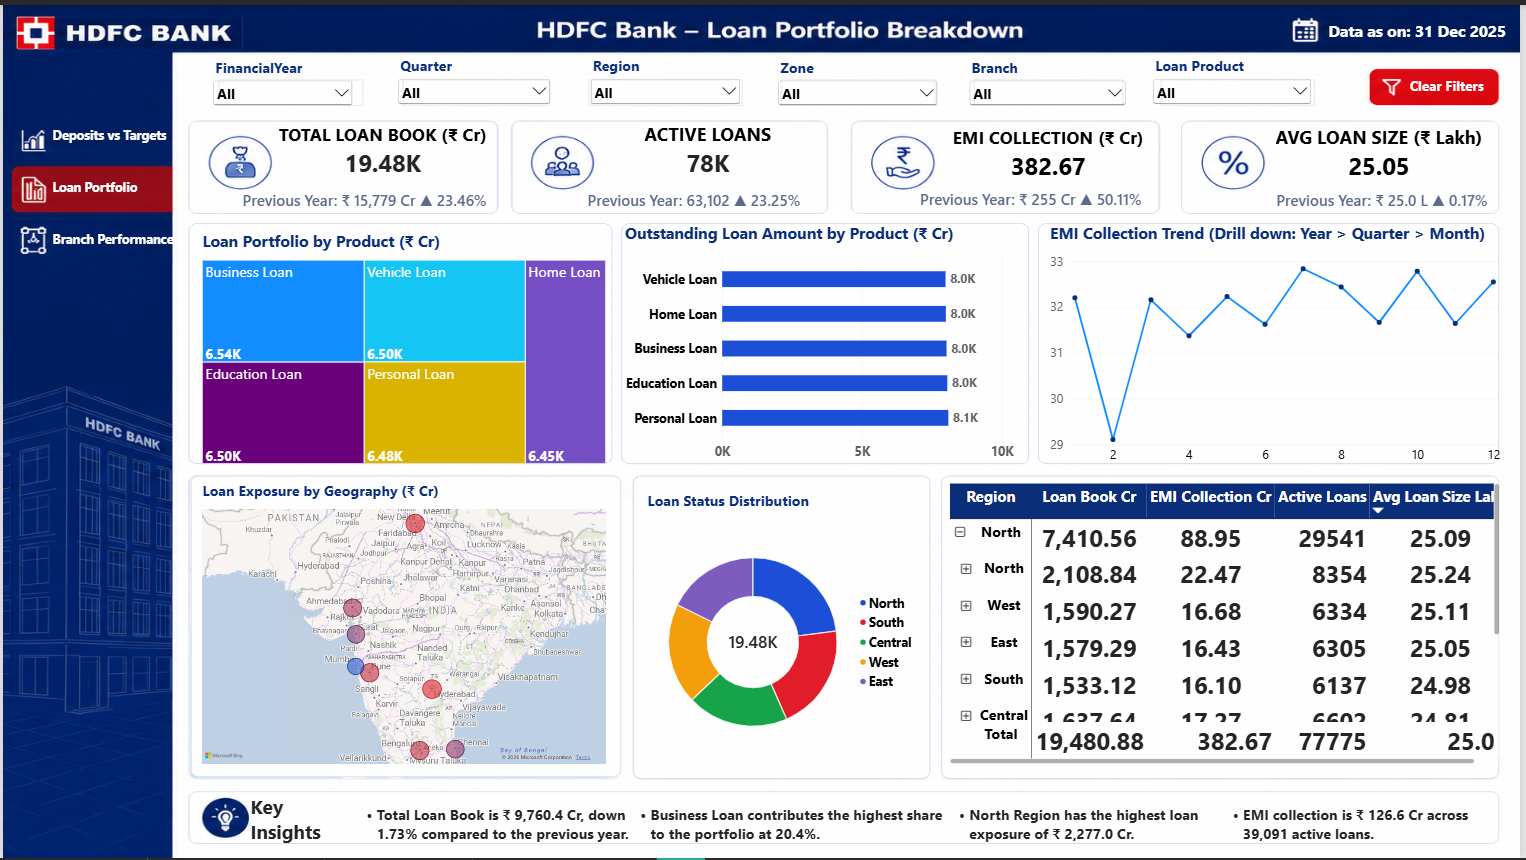

Layout of this report page (visuals, bound fields, positions):
{"tool":"powerbi","page":{"name":"Loan Portfolio","canvas":[2560,1440],"ordinal":1},"visuals":[{"type":"pageNavigator","box":[71.9,182,249.1,253.9],"z":0},{"type":"slicer","fields":{"Values":["DimDate.FinancialYear"]},"box":[349.7,88.6,244.3,93.4],"z":1},{"type":"slicer","fields":{"Values":["DimDate.Quarter"]},"box":[661.6,86.3,266.1,93.5],"z":2},{"type":"slicer","fields":{"Values":["DimBranch.Region"]},"box":[987.6,86.3,261.3,93.5],"z":3},{"type":"slicer","fields":{"Values":["DimBranch.Zone"]},"box":[1304,88.7,278.1,93.5],"z":4},{"type":"slicer","fields":{"Values":["DimBranch.BranchName"]},"box":[1625.2,88.7,273.3,93.5],"z":5},{"type":"slicer","fields":{"Values":["DimProduct.ProductName"]},"box":[1936.8,86.3,275.7,93.5],"z":6},{"type":"group","id":"g1","title":"Group 3","box":[1531.2,136.5,440.1,227.5],"z":8},{"type":"group","id":"g2","title":"Group 4","box":[2119.8,136.5,422.4,228.8],"z":9},{"type":"cardVisual","fields":{"Data":["MeasureTable.Loan Book Cr"]},"box":[438.4,138.9,404.8,213.2],"z":8000,"group":"g4"},{"type":"cardVisual","fields":{"Data":["MeasureTable.Active Loans"]},"box":[986.9,138.9,404.8,213.2],"z":9000,"group":"g3"},{"type":"cardVisual","fields":{"Data":["MeasureTable.Avg Loan Size Lakh"]},"box":[2119.8,136.5,404.8,227.5],"z":10000,"group":"g2"},{"type":"cardVisual","fields":{"Data":["MeasureTable.EMI Collection Cr"]},"box":[1556.9,136.5,414.4,227.5],"z":11000,"group":"g1"},{"type":"cardVisual","fields":{"Data":["MeasureTable.Sub Loan Book"]},"box":[387.8,292.5,448.2,71.9],"z":12000,"group":"g4"},{"type":"cardVisual","fields":{"Data":["MeasureTable.Sub Active Loans"]},"box":[970.5,292.5,419.5,71.9],"z":13000,"group":"g3"},{"type":"cardVisual","fields":{"Data":["MeasureTable.Sub EMI"]},"box":[1531.2,291,436.3,71.9],"z":14000,"group":"g1"},{"type":"cardVisual","fields":{"Data":["MeasureTable.Sub Avg Loan"]},"box":[2132.3,293.4,409.9,71.9],"z":15000,"group":"g2"},{"type":"group","id":"g3","title":"Group 1","box":[970.5,138.9,421.2,225.5],"z":18005},{"type":"group","id":"g4","title":"Group 2","box":[387.8,138.9,455.4,225.5],"z":18006},{"type":"actionButton","box":[2329.9,112.7,210.9,50.3],"z":18007},{"type":"clusteredBarChart","title":"Outstanding Loan Amount by Product (₹ Cr)","fields":{"Category":["DimProduct.ProductName"],"Y":["MeasureTable.Active Loans"]},"box":[1033.1,352.4,687.9,436.3],"z":18008},{"type":"lineChart","title":"EMI Collection Trend (Drill down: Year > Quarter > Month)","fields":{"Category":["DimDate.Month","DimDate.FY Quarter","DimDate.FY"],"Y":["MeasureTable.EMI Collection Cr"]},"box":[1749.8,352.4,791,441],"z":18009},{"type":"donutChart","title":"Loan Status Distribution","fields":{"Category":["DimBranch.Region"],"Y":["MeasureTable.Loan Book Cr"]},"box":[1071.5,805.4,486.6,491.4],"z":18010},{"type":"map","title":"Loan Exposure by Geography (₹ Cr)","fields":{"Category":["DimBranch.City"],"Size":["MeasureTable.Loan Book Cr"]},"box":[321.2,788.6,711.9,508.2],"z":18011},{"type":"pivotTable","fields":{"Rows":["DimBranch.Region","DimBranch.Zone","DimBranch.BranchName"],"Values":["MeasureTable.Loan Book Cr","MeasureTable.EMI Collection Cr","MeasureTable.Active Loans","MeasureTable.Avg Loan Size Lakh"]},"box":[1582,793.4,958.8,503.4],"z":18012},{"type":"treemap","title":"\nLoan Portfolio by Product (₹ Cr)","fields":{"Group":["DimProduct.ProductName"],"Values":["MeasureTable.Loan Book Cr"]},"box":[321.2,364.3,711.9,424.3],"z":18013},{"type":"textbox","box":[417.1,1330.3,199,91.1],"z":18014},{"type":"textbox","box":[594.5,1349.5,477,71.9],"z":18015},{"type":"textbox","box":[1056.3,1349.5,553.7,71.9],"z":18016},{"type":"textbox","box":[1594.8,1349.5,477,71.9],"z":18017},{"type":"textbox","box":[2056.6,1349.5,467.4,71.9],"z":18018},{"type":"cardVisual","fields":{"Data":["MeasureTable.Data As On"]},"box":[2212.4,0,347.6,86.3],"z":18019}]}

Visuals, with their boxes on the page's 2560x1440 design canvas (x1, y1, x2, y2). These are canvas units, not pixel positions in the 1526x860 screenshot, which may show the page scaled, cropped or inside an application window:
pageNavigator: (x1=72, y1=182, x2=321, y2=436)
slicer - DimDate.FinancialYear: (x1=350, y1=89, x2=594, y2=182)
slicer - DimDate.Quarter: (x1=662, y1=86, x2=928, y2=180)
slicer - DimBranch.Region: (x1=988, y1=86, x2=1249, y2=180)
slicer - DimBranch.Zone: (x1=1304, y1=89, x2=1582, y2=182)
slicer - DimBranch.BranchName: (x1=1625, y1=89, x2=1898, y2=182)
slicer - DimProduct.ProductName: (x1=1937, y1=86, x2=2212, y2=180)
"Group 3" group: (x1=1531, y1=136, x2=1971, y2=364)
"Group 4" group: (x1=2120, y1=136, x2=2542, y2=365)
cardVisual - MeasureTable.Loan Book Cr: (x1=438, y1=139, x2=843, y2=352)
cardVisual - MeasureTable.Active Loans: (x1=987, y1=139, x2=1392, y2=352)
cardVisual - MeasureTable.Avg Loan Size Lakh: (x1=2120, y1=136, x2=2525, y2=364)
cardVisual - MeasureTable.EMI Collection Cr: (x1=1557, y1=136, x2=1971, y2=364)
cardVisual - MeasureTable.Sub Loan Book: (x1=388, y1=292, x2=836, y2=364)
cardVisual - MeasureTable.Sub Active Loans: (x1=970, y1=292, x2=1390, y2=364)
cardVisual - MeasureTable.Sub EMI: (x1=1531, y1=291, x2=1968, y2=363)
cardVisual - MeasureTable.Sub Avg Loan: (x1=2132, y1=293, x2=2542, y2=365)
"Group 1" group: (x1=970, y1=139, x2=1392, y2=364)
"Group 2" group: (x1=388, y1=139, x2=843, y2=364)
actionButton: (x1=2330, y1=113, x2=2541, y2=163)
"Outstanding Loan Amount by Product (₹ Cr)" clusteredBarChart: (x1=1033, y1=352, x2=1721, y2=789)
"EMI Collection Trend (Drill down: Year > Quarter > Month)" lineChart: (x1=1750, y1=352, x2=2541, y2=793)
"Loan Status Distribution" donutChart: (x1=1072, y1=805, x2=1558, y2=1297)
"Loan Exposure by Geography (₹ Cr)" map: (x1=321, y1=789, x2=1033, y2=1297)
pivotTable - DimBranch.Region x DimBranch.Zone: (x1=1582, y1=793, x2=2541, y2=1297)
"
Loan Portfolio by Product (₹ Cr)" treemap: (x1=321, y1=364, x2=1033, y2=789)
textbox: (x1=417, y1=1330, x2=616, y2=1421)
textbox: (x1=594, y1=1350, x2=1072, y2=1421)
textbox: (x1=1056, y1=1350, x2=1610, y2=1421)
textbox: (x1=1595, y1=1350, x2=2072, y2=1421)
textbox: (x1=2057, y1=1350, x2=2524, y2=1421)
cardVisual - MeasureTable.Data As On: (x1=2212, y1=0, x2=2560, y2=86)
